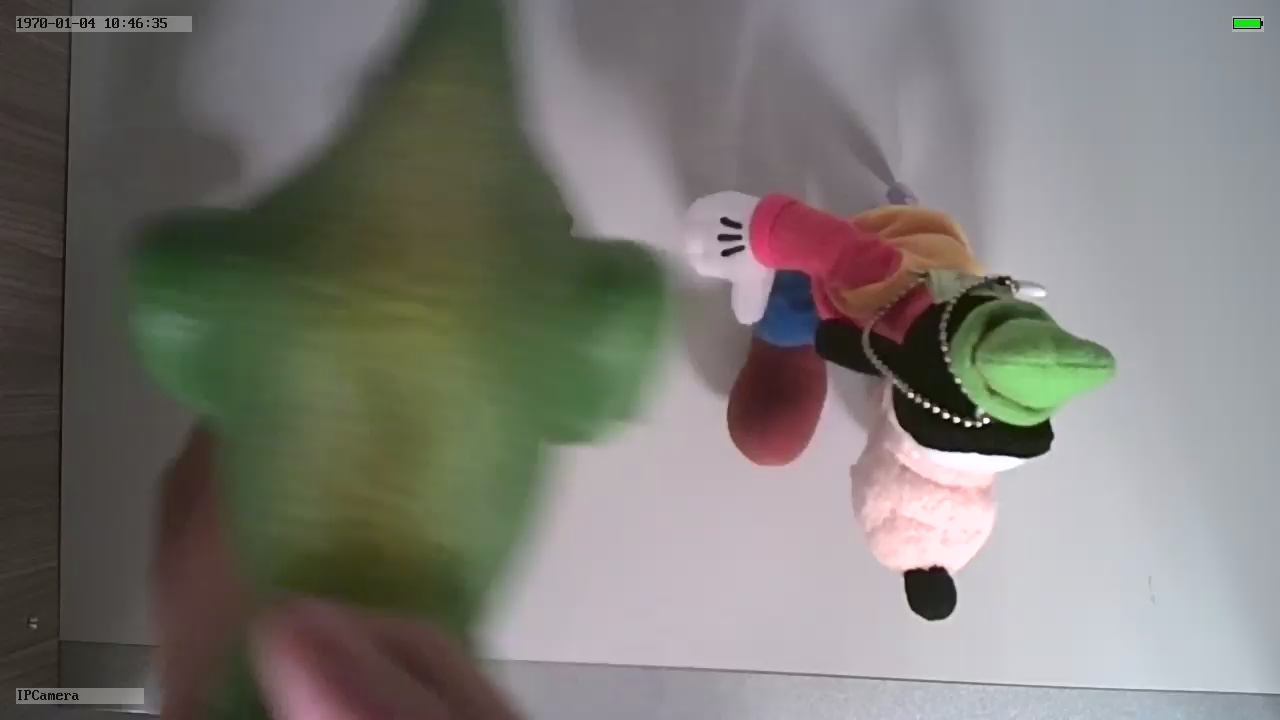goofy: (679, 185, 1120, 629)
